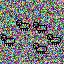sheep: (33, 42, 48, 54), (16, 20, 30, 31), (33, 22, 47, 33), (47, 34, 61, 45), (1, 35, 15, 46)
